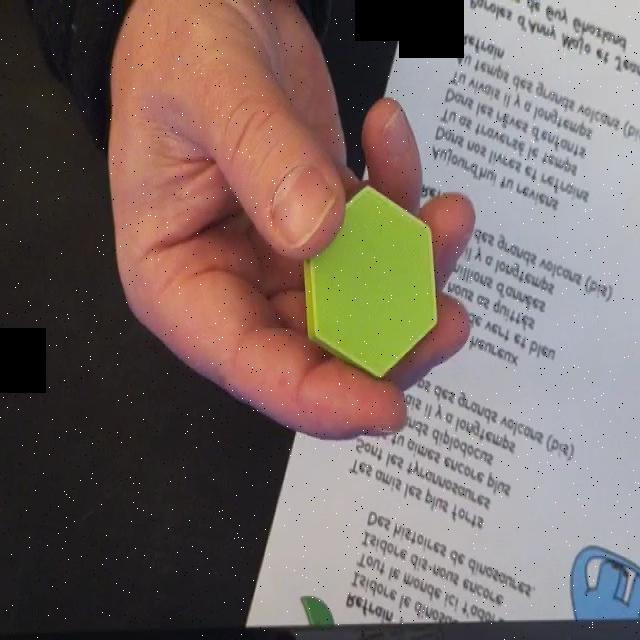hexagon: (299, 183, 441, 380)
